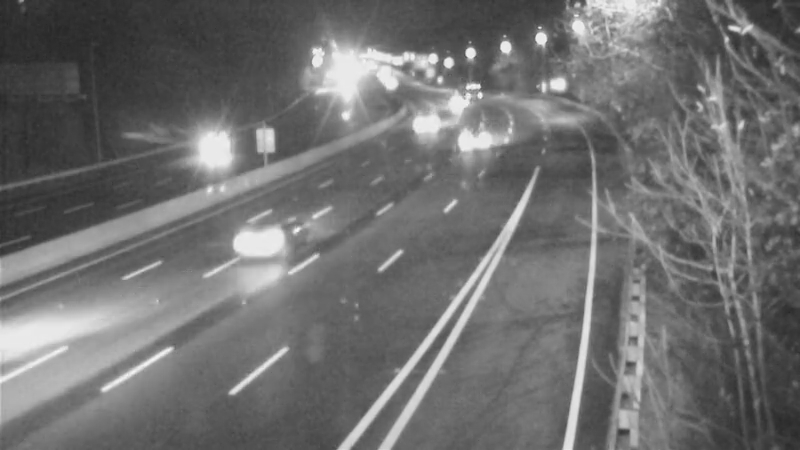vehicle: (223, 198, 303, 278), (447, 65, 497, 115), (436, 80, 486, 130), (393, 92, 443, 142), (448, 119, 498, 169), (184, 122, 234, 172)
